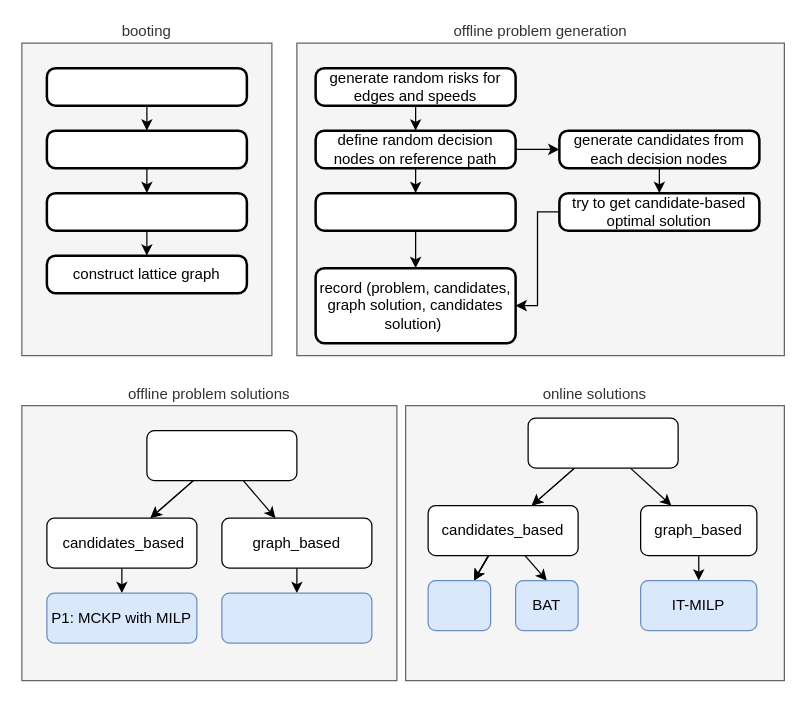
The diagram is 806 pixels wide and 703 high, and some of its shapes have lost their labels. Here are the shapes that lost their labels. From the top down, the centre of each, then its label:
the point at 146,86: carla town
the point at 146,149: get scenario (start and goal points)
the point at 146,211: get reference path
the point at 415,211: try to find graph-based optimal solution
the point at 221,455: Offline Problem
the point at 602,442: Online Algorithm
the point at 296,617: P2: Graph with MILP
the point at 459,605: CZL
